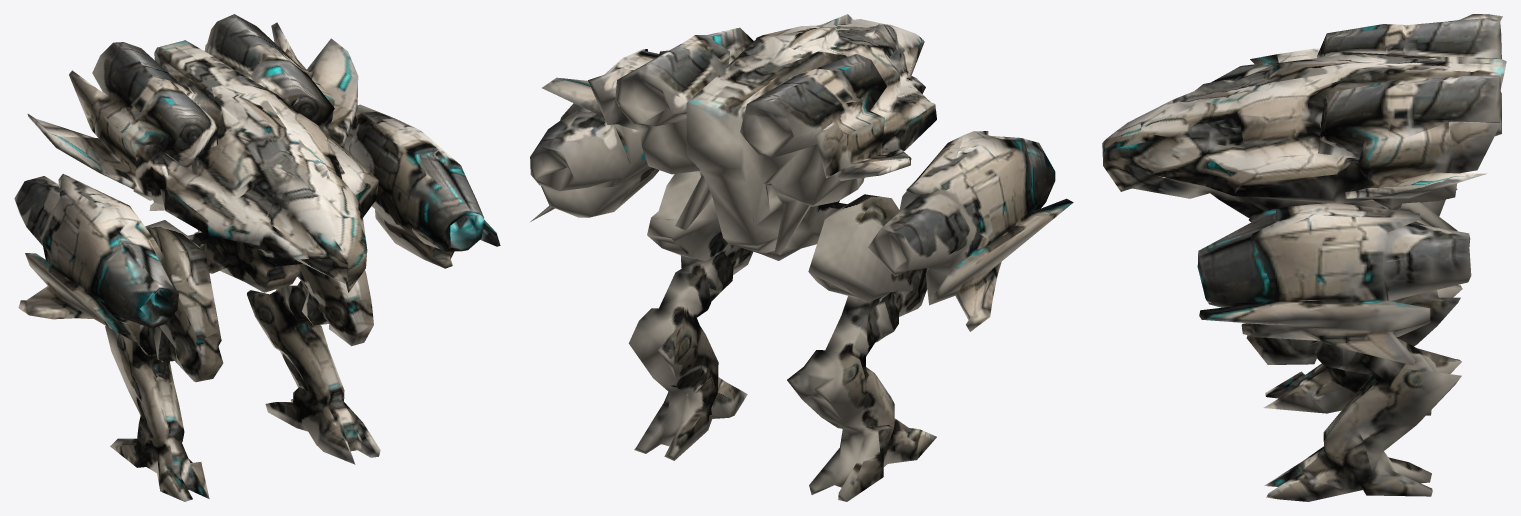
The model's file is shrike_lod2.glb.
3 renders of one model, left to right at view 1: azimuth 30°, elevation 25°; view 2: azimuth 150°, elevation 25°; view 3: azimuth 270°, elevation 25°, orthographic. The views are drawn at different scales.
Parts seen in each view (by area): view 1: geometry_0; view 2: geometry_0; view 3: geometry_0.
Boxes of the visible parts, box(x1,y1,x2,y2) form: geometry_0: box(14, 14, 500, 501); geometry_0: box(530, 14, 1073, 501); geometry_0: box(1102, 14, 1506, 501).
Size of the model in its own units: 1.99 by 1.8 by 1.64.
Materials: 1 (1 with a texture image).
